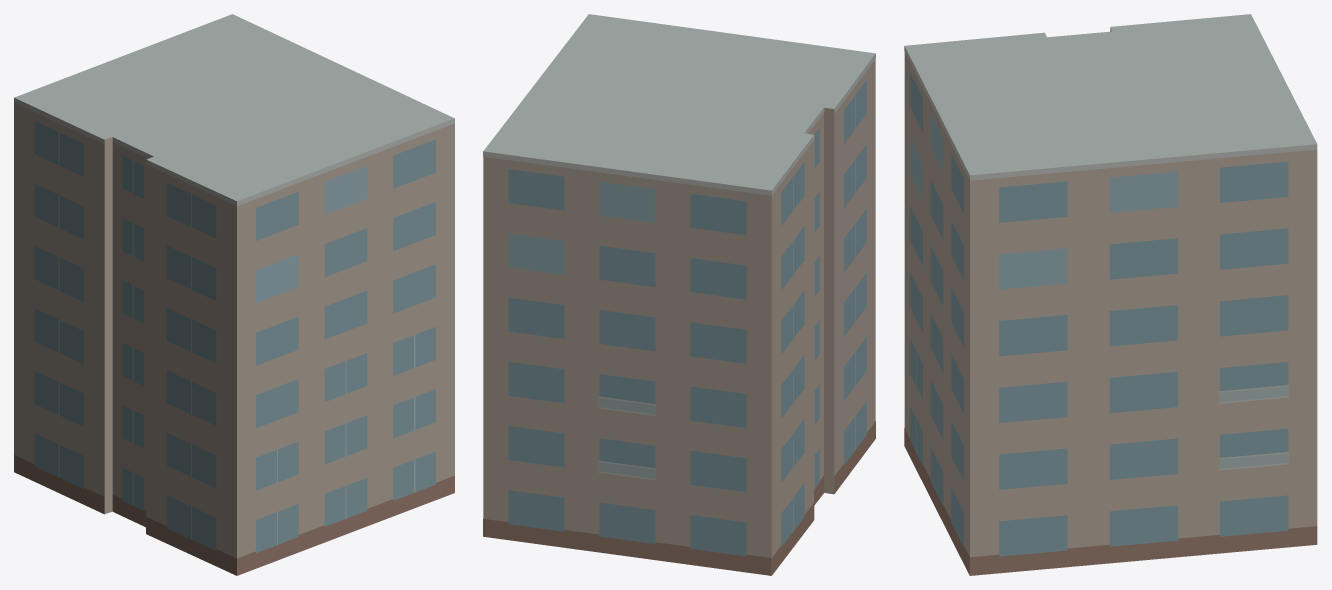
File: survey-upis-32696558.glb
3 renders of one model, left to right at view 1: azimuth 30°, elevation 25°; view 2: azimuth 150°, elevation 25°; view 3: azimuth 270°, elevation 25°, orthographic. The views are drawn at different scales.
Parts seen in each view (by area): view 1: survey-upis-32696558.tmp; view 2: survey-upis-32696558.tmp; view 3: survey-upis-32696558.tmp.
Part boxes in pixels (x1,y1,x2,y2): survey-upis-32696558.tmp: (14, 14, 454, 575); survey-upis-32696558.tmp: (483, 14, 875, 575); survey-upis-32696558.tmp: (904, 14, 1317, 575).
Bounding box in the file's own units: 15.82 × 18.3 × 17.11.
